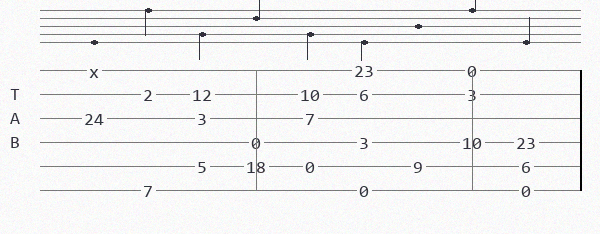0: (251, 135, 265, 150), (305, 159, 319, 174), (359, 183, 373, 198), (467, 63, 481, 78), (521, 183, 535, 198)
10: (300, 87, 324, 102), (462, 135, 486, 150)
12: (192, 87, 216, 102)
18: (246, 159, 270, 174)
2: (143, 87, 157, 102)
23: (354, 63, 378, 78), (516, 135, 540, 150)
24: (84, 111, 108, 126)
3: (197, 111, 211, 126), (359, 135, 373, 150), (467, 87, 481, 102)
5: (197, 159, 211, 174)
6: (359, 87, 373, 102), (521, 159, 535, 174)
7: (143, 183, 157, 198), (305, 111, 319, 126)
9: (413, 159, 427, 174)
x: (89, 64, 103, 77)
